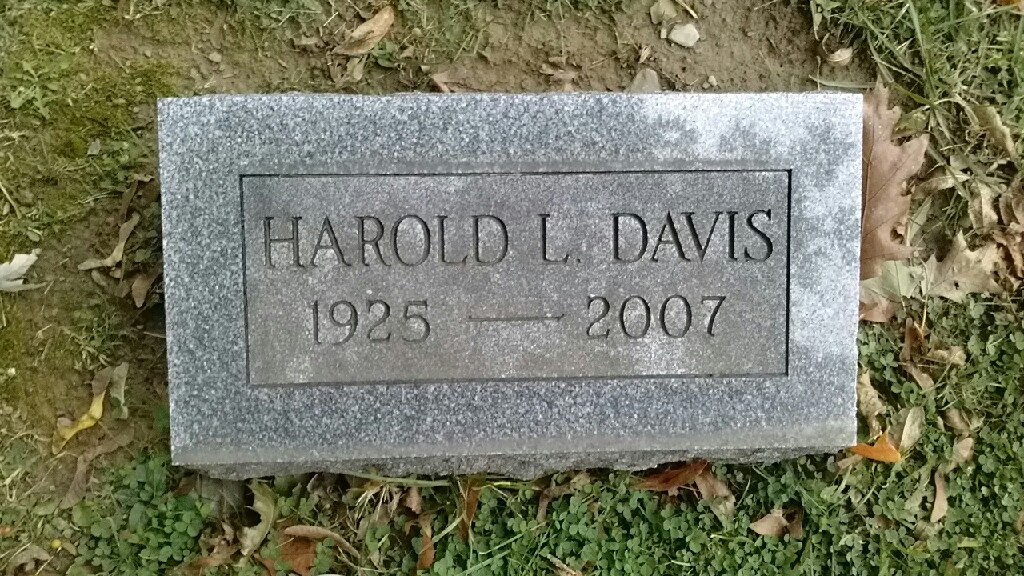flat: (135, 77, 931, 493)
